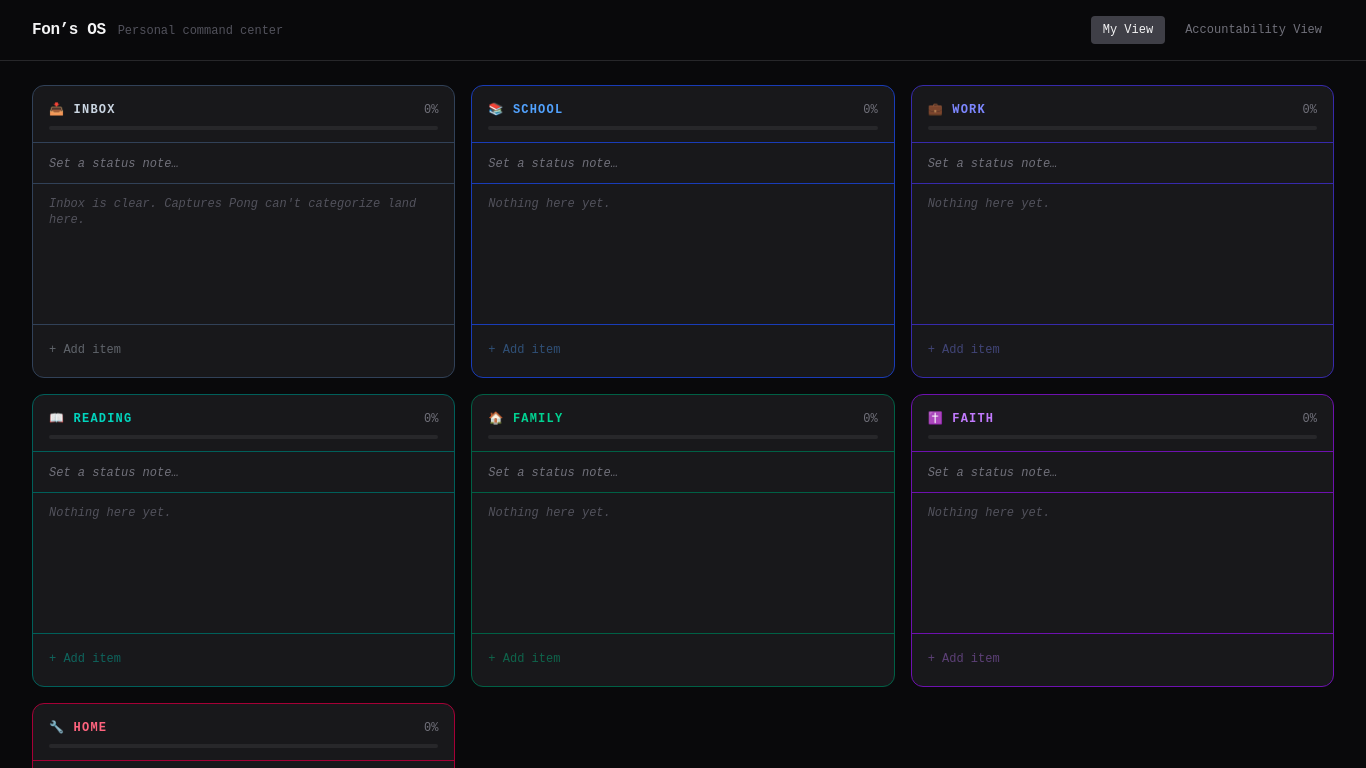
it: Accountability View › handles an empty School board
Click the button "Accountability View": (1254, 30) top-left (1173, 16), bottom-right (1334, 44)
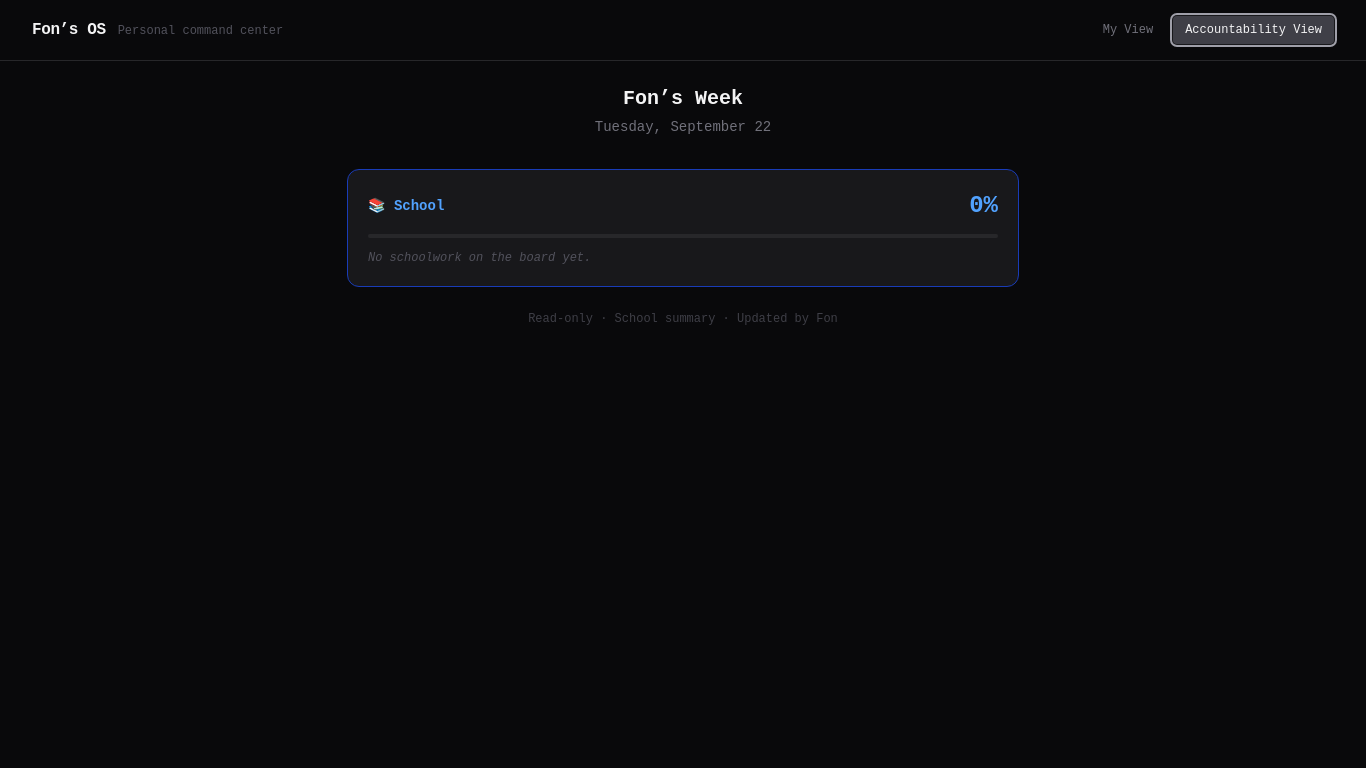
Now the text "No schoolwork on the board yet." is shown, box top-left (368, 251), bottom-right (591, 265)
